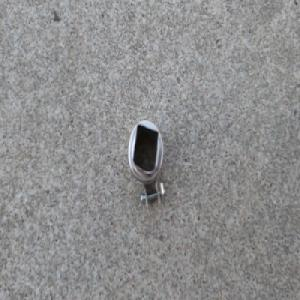MetalPart: (126, 119, 167, 213)
